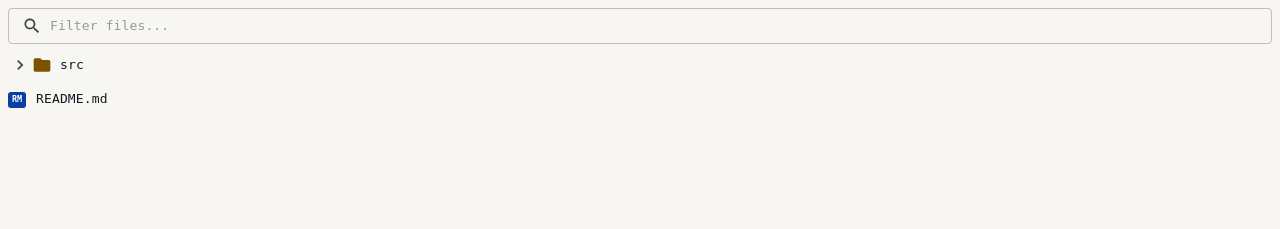
Test case: FileTree › chevron vs. directory row (#572) › chevron click toggles expansion without selecting the directory
Click the button named "Expand src": {"x": 20, "y": 65} left=8, top=53, right=32, bottom=77
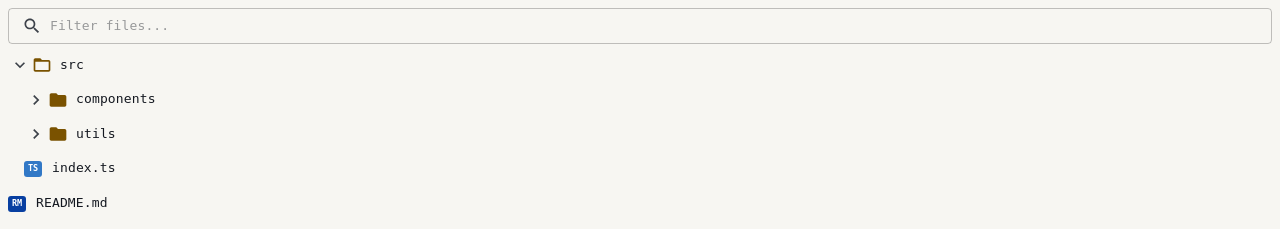
Now the text "components" is shown, box left=76, top=91, right=156, bottom=106
Click the button named "Collapse src": {"x": 20, "y": 65} left=8, top=53, right=32, bottom=77
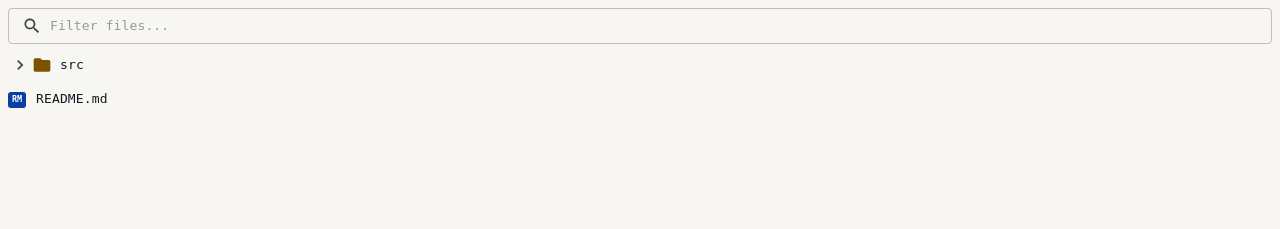
Now the button "components" is gone
